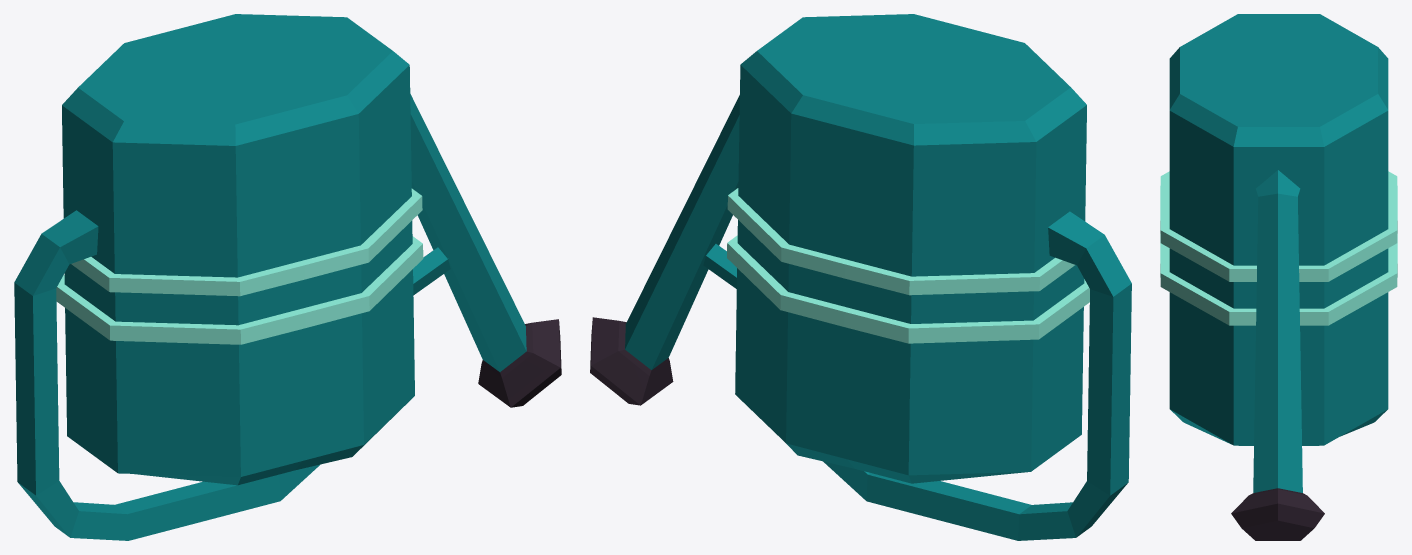
File: Watering can.fbx
The picture shows the model from 3 angles, left to right: view 1: azimuth 30°, elevation 25°; view 2: azimuth 150°, elevation 25°; view 3: azimuth 270°, elevation 25°; orthographic projection. The views are drawn at different scales.
Visible parts, largest first — view 1: Watering can; view 2: Watering can; view 3: Watering can.
Part boxes in pixels (box(x1,y1,x2,y2)): Watering can: box(14, 14, 561, 540); Watering can: box(590, 14, 1131, 540); Watering can: box(1160, 14, 1397, 540).
Size of the model in its own units: 63.79 by 50.31 by 27.52.
